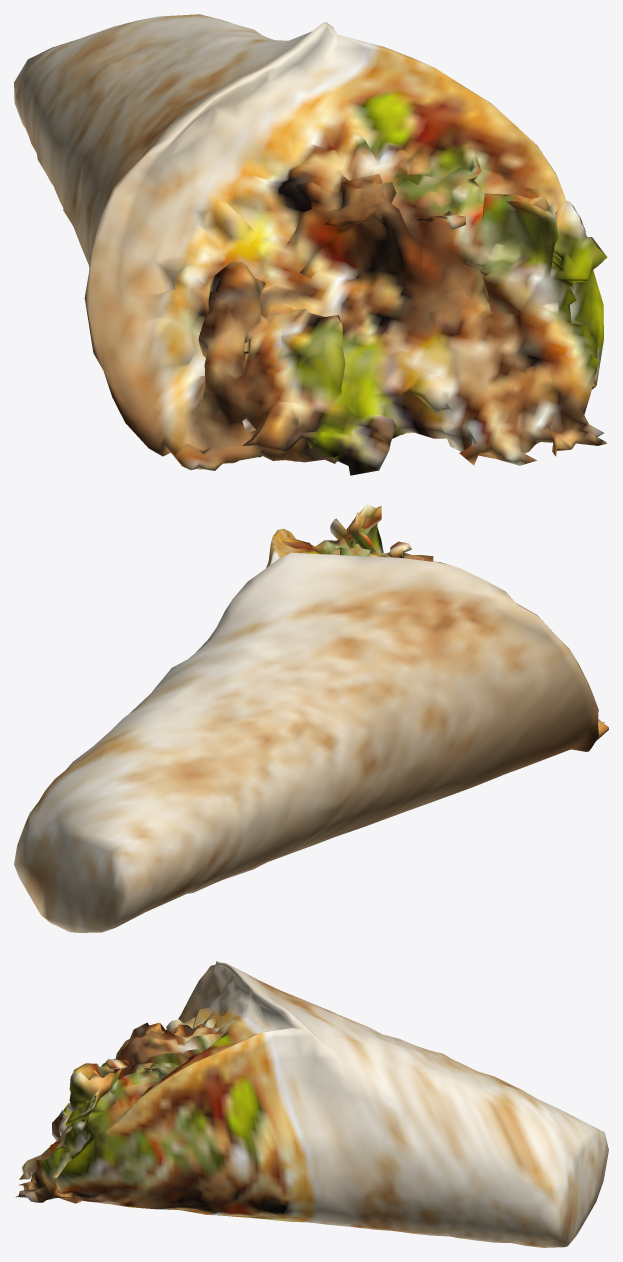
File: KebabGal.fbx
3 views of the same model, one above another, from view 1: azimuth 30°, elevation 25°; view 2: azimuth 150°, elevation 25°; view 3: azimuth 270°, elevation 25° (orthographic). The views are drawn at different scales.
Visible parts, largest first — view 1: Mesh1.0; view 2: Mesh1.0; view 3: Mesh1.0.
Boxes of the visible parts, x1,y1,x2,y2 form: Mesh1.0: [14, 14, 607, 475]; Mesh1.0: [14, 504, 608, 932]; Mesh1.0: [15, 961, 608, 1247].
Size of the model in its own units: 121 by 86.63 by 219.
